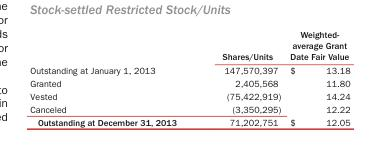table: (29, 28, 349, 127)
table column: (29, 28, 198, 127), (198, 28, 284, 127), (284, 28, 349, 127)
table column header: (29, 28, 349, 63)
table row: (29, 28, 349, 63), (29, 63, 349, 76), (29, 76, 349, 89), (29, 89, 349, 102), (29, 102, 349, 115), (29, 115, 349, 127)
